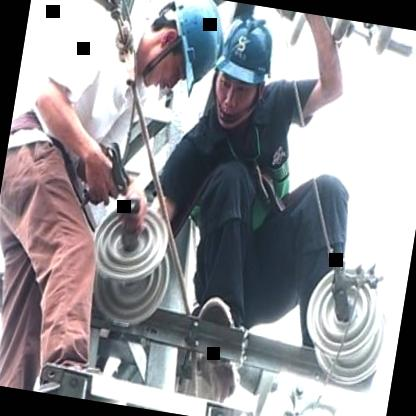helmet: (208, 8, 281, 128), (141, 0, 228, 98)
